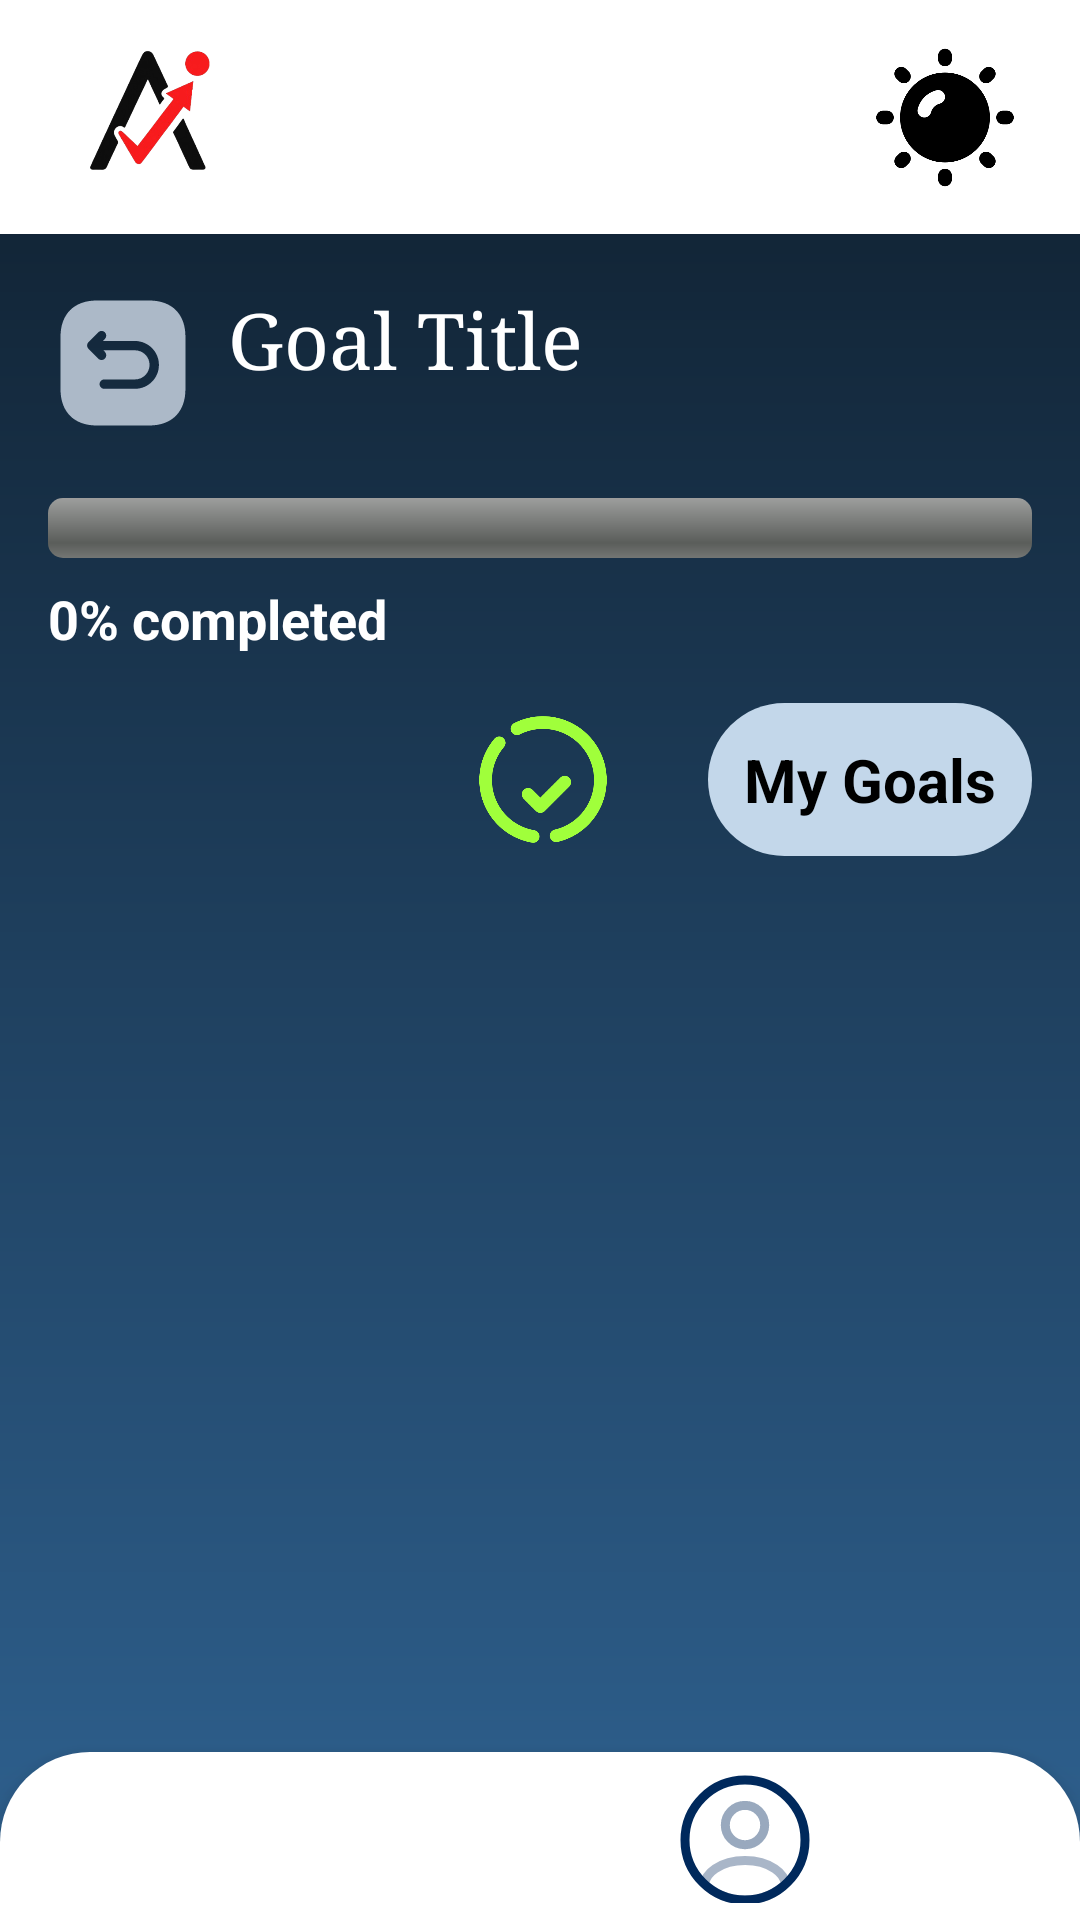

Icons on this 1080*1920 Android screen, each with its box as box(x1, y1, x2, y2):
back: box(60, 300, 186, 426)
check: box(479, 716, 607, 843)
profile: box(680, 1775, 810, 1903)
summer: box(876, 48, 1014, 187)
